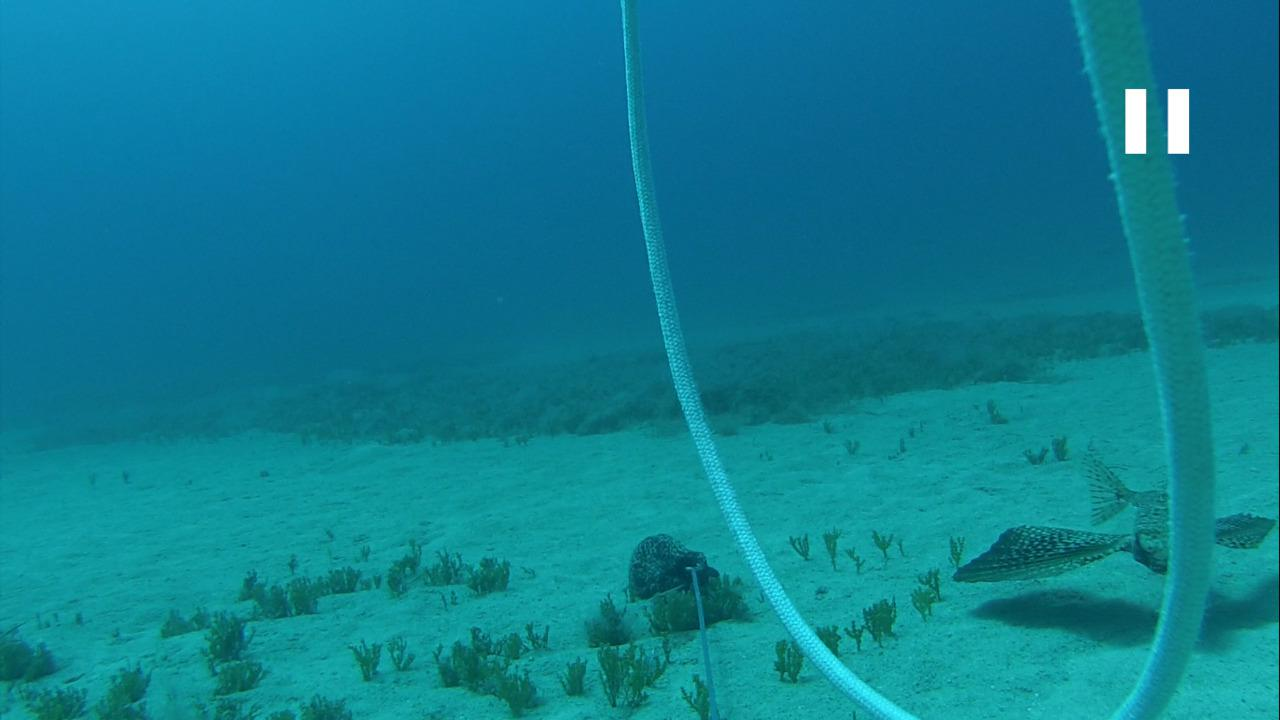dactylopterus: (940, 451, 1274, 590)
